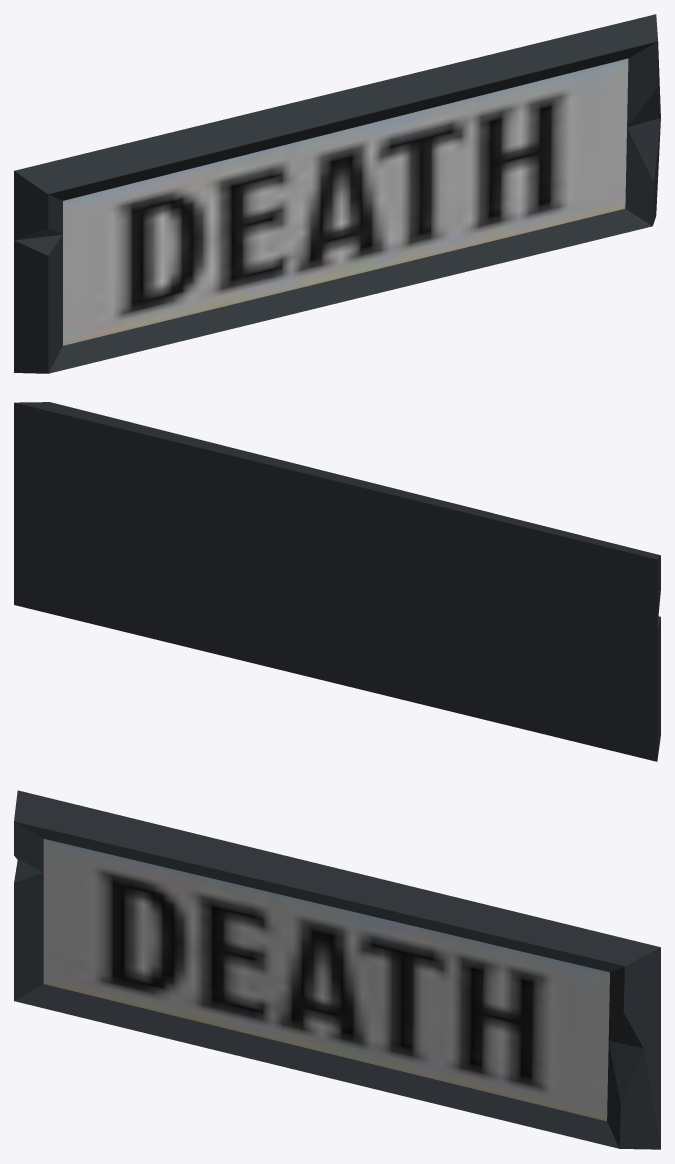
Rendered from SM_Prop_Sign_Death_01.glb.
3 views of the same model, one above another, from view 1: azimuth 30°, elevation 25°; view 2: azimuth 150°, elevation 25°; view 3: azimuth 330°, elevation 25° (orthographic).
Visible parts, largest first — view 1: SM_Prop_Sign_Death_01; view 2: SM_Prop_Sign_Death_01; view 3: SM_Prop_Sign_Death_01.
Boxes of the visible parts, bbox=[...] form: SM_Prop_Sign_Death_01: bbox=[14, 14, 660, 373]; SM_Prop_Sign_Death_01: bbox=[14, 402, 660, 761]; SM_Prop_Sign_Death_01: bbox=[14, 790, 660, 1149].
Bounding box in the file's own units: 118 × 35.53 × 6.04.
Materials: 1 (1 with a texture image).
